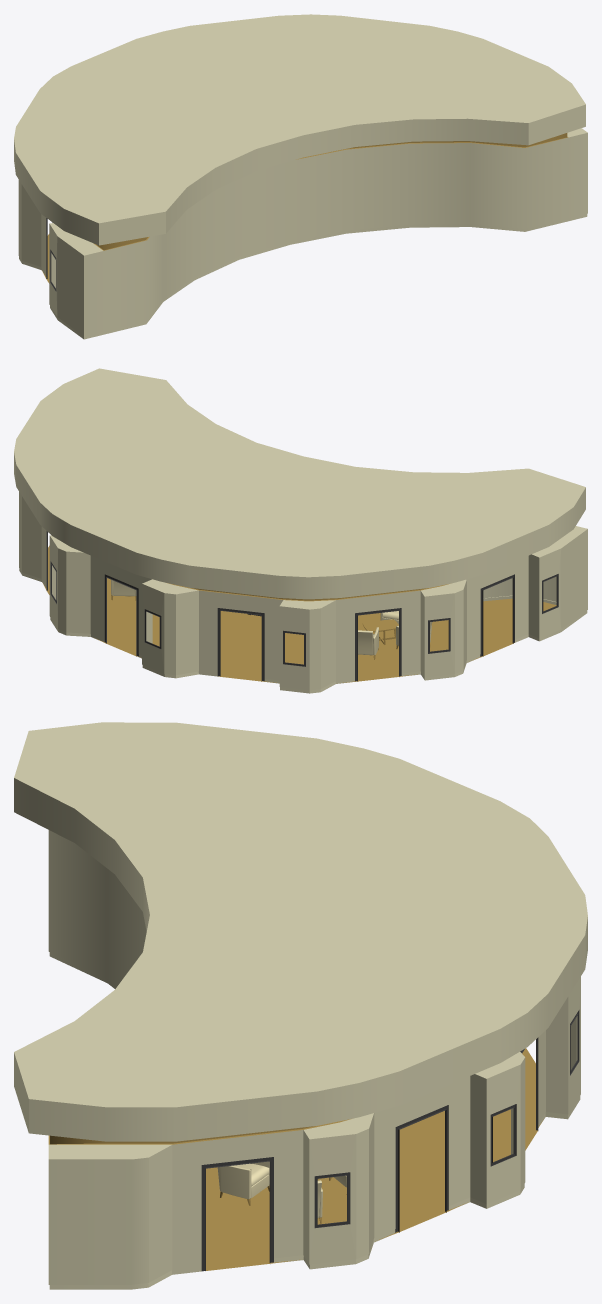
The model's file is Lobby_Fin.fbx.
3 renders of one model, top to bottom at view 1: azimuth 30°, elevation 25°; view 2: azimuth 150°, elevation 25°; view 3: azimuth 270°, elevation 25°, orthographic. The views are drawn at different scales.
Visible parts, largest first — view 1: Lobby_Roof, Lobby_Walls; view 2: Lobby_Roof, Lobby_Walls, Lobby_Floor, Chair_2, Side_Table; view 3: Lobby_Roof, Lobby_Walls, Lobby_Floor, Chair_3.
Part boxes in pixels (x1=…): Lobby_Roof: x1=14, y1=14, x2=587, y2=255; Lobby_Walls: x1=18, y1=133, x2=587, y2=339; Lobby_Roof: x1=14, y1=368, x2=587, y2=609; Lobby_Walls: x1=19, y1=492, x2=587, y2=693; Lobby_Floor: x1=43, y1=545, x2=556, y2=683; Chair_2: x1=358, y1=627, x2=378, y2=659; Side_Table: x1=363, y1=619, x2=398, y2=644; Lobby_Roof: x1=14, y1=722, x2=587, y2=1159; Lobby_Walls: x1=48, y1=830, x2=580, y2=1289; Lobby_Floor: x1=206, y1=1048, x2=543, y2=1270; Chair_3: x1=217, y1=1161, x2=269, y2=1205.
Size of the model in its own units: 1697 by 379 by 1069.
